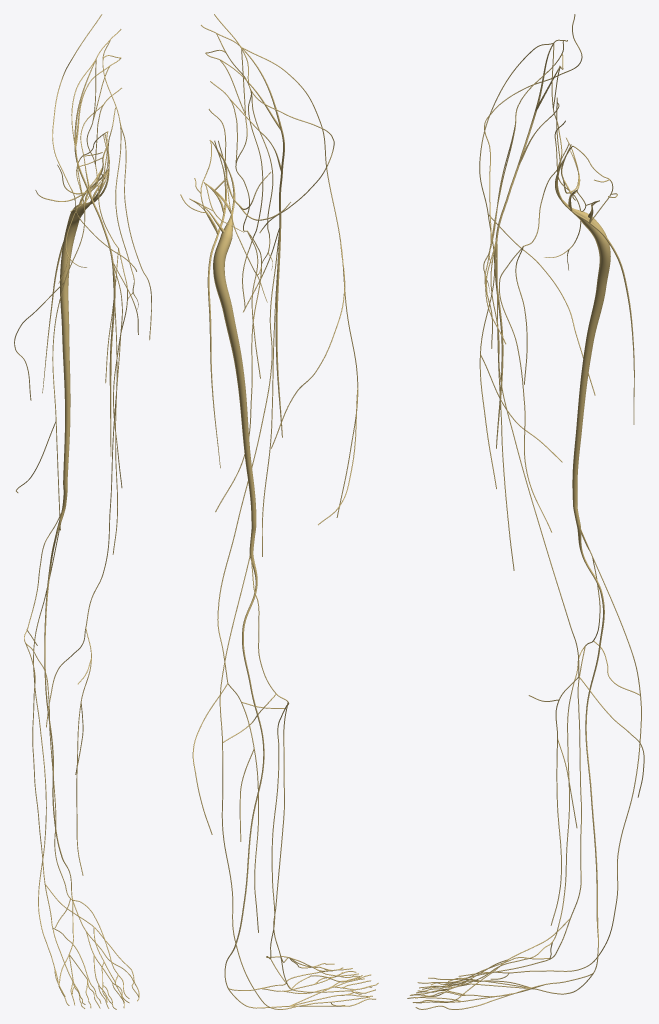
File: detail-nervous-right-lower-limb.glb
3 renders of one model, left to right at view 1: azimuth 30°, elevation 25°; view 2: azimuth 150°, elevation 25°; view 3: azimuth 270°, elevation 25°, orthographic. The views are drawn at different scales.
Parts seen in each view (by area): view 1: za-c85282deea82f19d, za-6836d065cd9af7d1, za-03ae5f4eeb3b2ea3, za-6918c6f57ead2571, za-a1c369d50bfbb735, za-833bd3204344f081, za-e4d6cac8821c27ab, za-fef326fd73564417, za-60ca183bab58331b, za-c5fff782165024d5, za-22e94f99a02f68ef, za-826b3276493ec436 (+2 smaller); view 2: za-c85282deea82f19d, za-03ae5f4eeb3b2ea3, za-6836d065cd9af7d1, za-6918c6f57ead2571, za-a1c369d50bfbb735, za-833bd3204344f081, za-826b3276493ec436, za-fef326fd73564417, za-22e94f99a02f68ef, za-60ca183bab58331b, za-e4d6cac8821c27ab; view 3: za-c85282deea82f19d, za-03ae5f4eeb3b2ea3, za-6918c6f57ead2571, za-6836d065cd9af7d1, za-a1c369d50bfbb735, za-833bd3204344f081, za-826b3276493ec436, za-e4d6cac8821c27ab.
Boxes of the visible parts, <box> form: za-c85282deea82f19d: <box>60,133,108,505</box>; za-6836d065cd9af7d1: <box>74,29,121,456</box>; za-03ae5f4eeb3b2ea3: <box>46,266,122,875</box>; za-6918c6f57ead2571: <box>14,59,96,530</box>; za-a1c369d50bfbb735: <box>44,505,72,897</box>; za-833bd3204344f081: <box>33,595,65,996</box>; za-e4d6cac8821c27ab: <box>24,640,108,950</box>; za-fef326fd73564417: <box>86,60,121,248</box>; za-60ca183bab58331b: <box>52,14,136,271</box>; za-c5fff782165024d5: <box>25,643,45,883</box>; za-22e94f99a02f68ef: <box>112,271,117,554</box>; za-826b3276493ec436: <box>42,163,109,393</box>; za-c85282deea82f19d: <box>189,140,256,550</box>; za-03ae5f4eeb3b2ea3: <box>192,234,278,932</box>; za-6836d065cd9af7d1: <box>201,24,284,437</box>; za-6918c6f57ead2571: <box>242,47,358,525</box>; za-a1c369d50bfbb735: <box>224,550,264,987</box>; za-833bd3204344f081: <box>219,684,369,1009</box>; za-826b3276493ec436: <box>207,164,226,468</box>; za-fef326fd73564417: <box>210,49,249,231</box>; za-22e94f99a02f68ef: <box>262,231,280,556</box>; za-60ca183bab58331b: <box>214,14,334,232</box>; za-e4d6cac8821c27ab: <box>266,702,299,964</box>; za-c85282deea82f19d: <box>555,144,610,525</box>; za-03ae5f4eeb3b2ea3: <box>490,243,644,925</box>; za-6918c6f57ead2571: <box>479,43,595,488</box>; za-6836d065cd9af7d1: <box>494,39,567,448</box>; za-a1c369d50bfbb735: <box>576,524,604,972</box>; za-833bd3204344f081: <box>458,645,641,979</box>; za-826b3276493ec436: <box>556,171,634,424</box>; za-e4d6cac8821c27ab: <box>482,646,584,977</box>.
Bounding box in the file's own units: 0.1475 × 1.11 × 0.2357.
